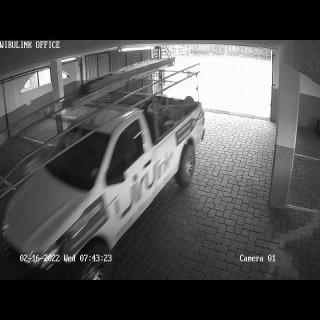car: (0, 90, 206, 276)
